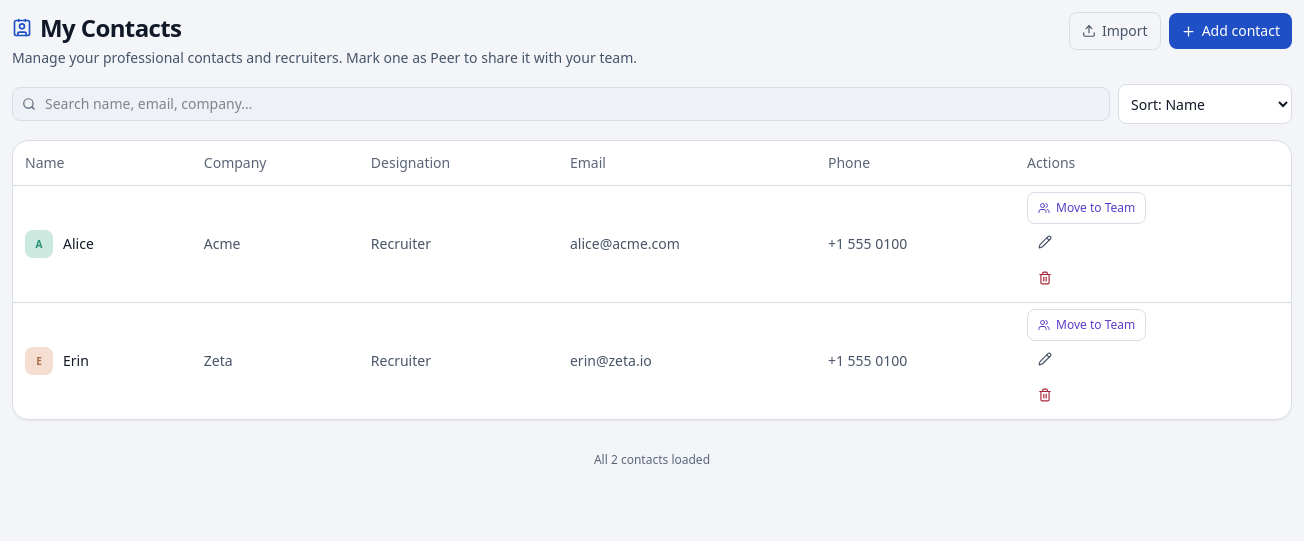
Scenario: ContactsPanel › shows the server error if the move fails, and keeps the contact
Expected: the text "Alice" is shown, x1=63 y1=234 x2=94 y2=254
Click the button with aria-label "Move Alice to Team" at x=1087, y=208, box x1=1027 y1=192 x2=1146 y2=224
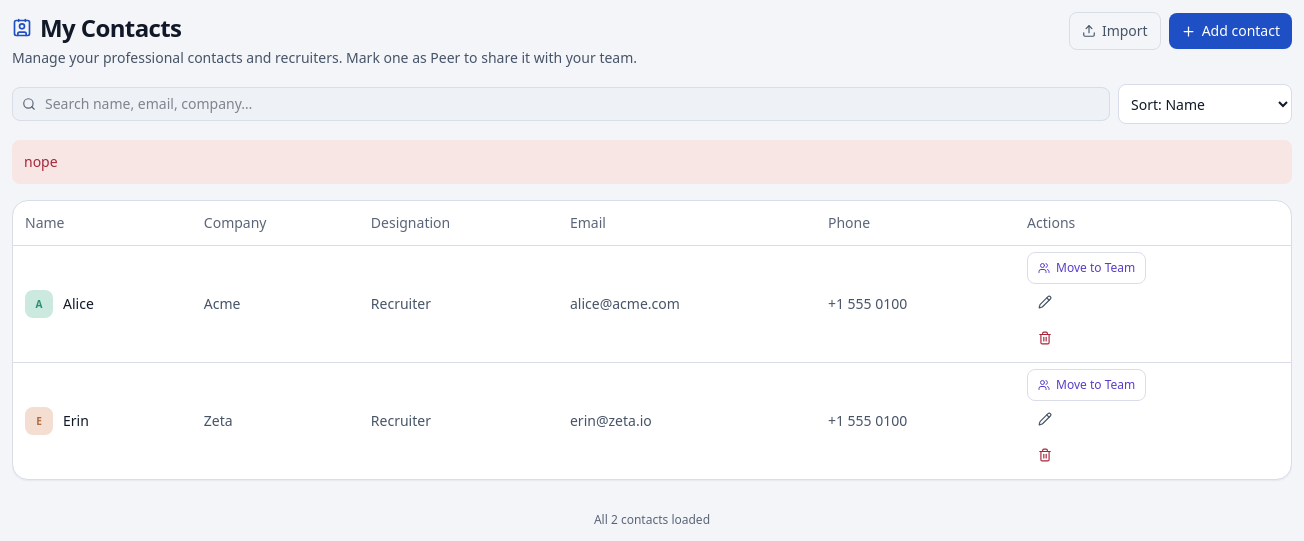
Expected: the text "Alice" is shown, x1=63 y1=294 x2=94 y2=314
Result: the message reads "nope" at x1=24 y1=152 x2=58 y2=171
